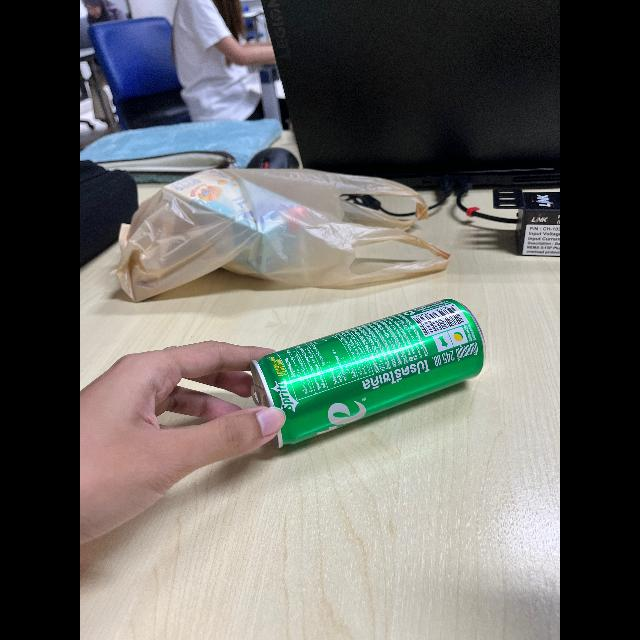can: (234, 297, 492, 447)
